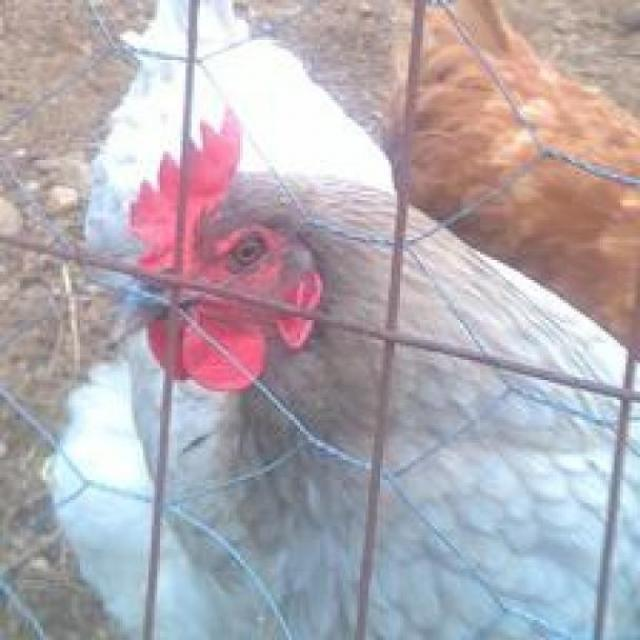Chicken: (104, 130, 640, 640)
